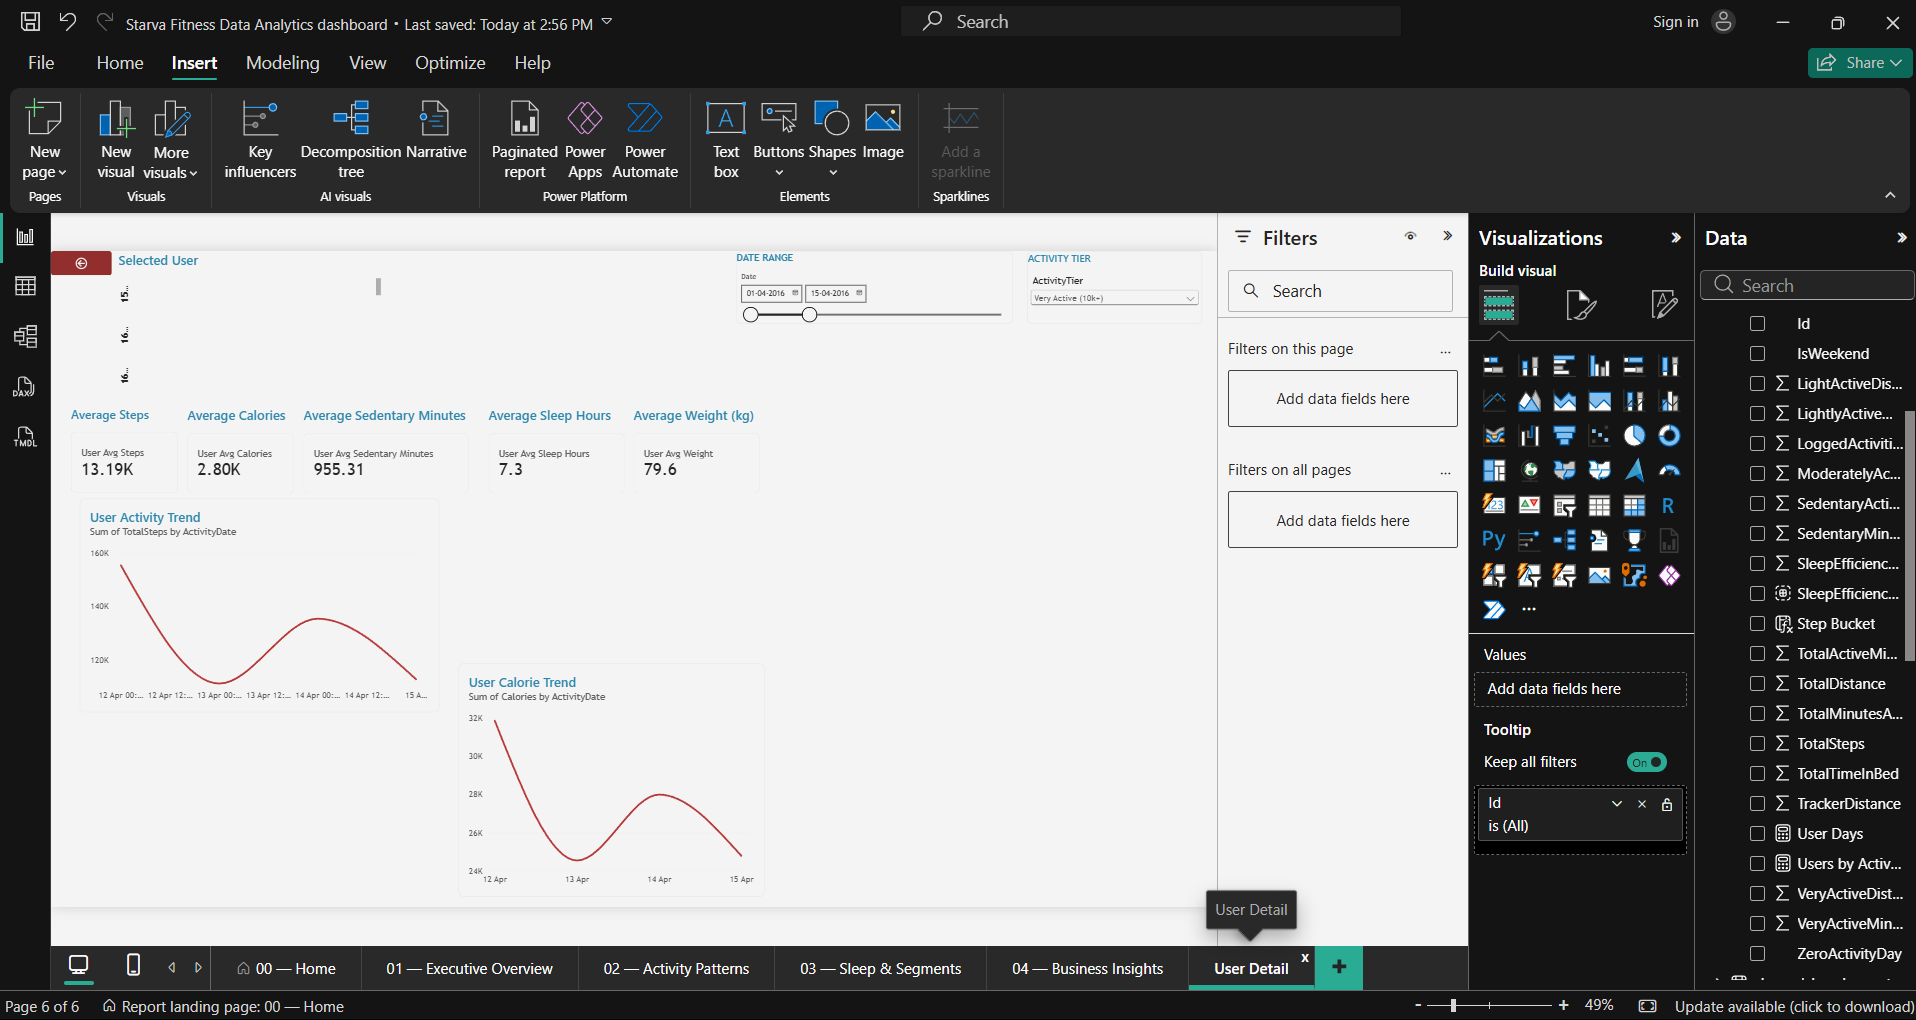

Layout of this report page (visuals, bound fields, positions):
{"tool":"powerbi","page":{"name":"User Detail","canvas":[1920,1080],"ordinal":5},"visuals":[{"type":"actionButton","box":[0,0,100,40],"z":0},{"type":"actionButton","box":[0,0,100,40],"z":1000},{"type":"cardVisual","title":"Selected User","fields":{"Rows":["user_segments.Id"]},"box":[112,0,432,240],"z":2000},{"type":"cardVisual","title":"Average Steps","fields":{"Data":["DateDim.User Avg Steps"]},"box":[32,256,176,144],"z":3000},{"type":"cardVisual","title":"Average Calories","fields":{"Data":["DateDim.User Avg Calories"]},"box":[224,256,176,144],"z":4000},{"type":"cardVisual","title":"Average Sedentary Minutes","fields":{"Data":["DateDim.User Avg Sedentary Minutes"]},"box":[416,256,272,144],"z":5000},{"type":"cardVisual","title":"Average Sleep Hours","fields":{"Data":["DateDim.User Avg Sleep Hours"]},"box":[720,256,224,144],"z":6000},{"type":"cardVisual","title":"Average Weight (kg)","fields":{"Data":["DateDim.User Avg Weight"]},"box":[960,256,208,144],"z":7000},{"type":"slicer","title":"DATE RANGE","fields":{"Values":["DateDim.Date"]},"box":[1128,0,456,120],"z":8000},{"type":"slicer","title":"ACTIVITY TIER","fields":{"Values":["cleaned_daily_master.ActivityTier"]},"box":[1608,0,288,120],"z":9000},{"type":"lineChart","title":"User Activity Trend","fields":{"Category":["cleaned_daily_master.ActivityDate"],"Y":["Sum(cleaned_daily_master.TotalSteps)"]},"box":[48,408,592,352],"z":10000},{"type":"lineChart","title":"User Calorie Trend","fields":{"Category":["cleaned_daily_master.ActivityDate"],"Y":["Sum(cleaned_daily_master.Calories)"]},"box":[672,680,504,384],"z":11000},{"type":"textbox","box":[672,408,624,264],"z":12000}]}

Visuals, with their boxes on the page's 1920x1080 design canvas (x1, y1, x2, y2). These are canvas units, not pixel positions in the 1916x1020 screenshot, which may show the page scaled, cropped or inside an application window:
actionButton: [left=0, top=0, right=100, bottom=40]
actionButton: [left=0, top=0, right=100, bottom=40]
"Selected User" cardVisual: [left=112, top=0, right=544, bottom=240]
"Average Steps" cardVisual: [left=32, top=256, right=208, bottom=400]
"Average Calories" cardVisual: [left=224, top=256, right=400, bottom=400]
"Average Sedentary Minutes" cardVisual: [left=416, top=256, right=688, bottom=400]
"Average Sleep Hours" cardVisual: [left=720, top=256, right=944, bottom=400]
"Average Weight (kg)" cardVisual: [left=960, top=256, right=1168, bottom=400]
"DATE RANGE" slicer: [left=1128, top=0, right=1584, bottom=120]
"ACTIVITY TIER" slicer: [left=1608, top=0, right=1896, bottom=120]
"User Activity Trend" lineChart: [left=48, top=408, right=640, bottom=760]
"User Calorie Trend" lineChart: [left=672, top=680, right=1176, bottom=1064]
textbox: [left=672, top=408, right=1296, bottom=672]
